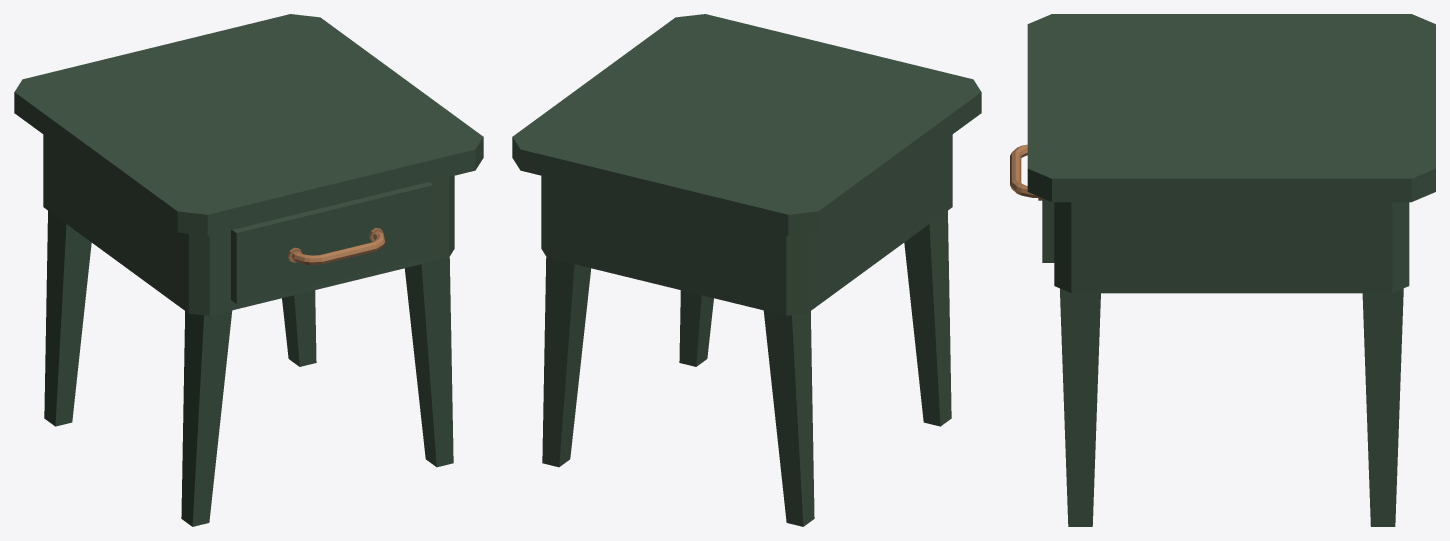
The model's file is Comodino.fbx.
3 renders of one model, left to right at view 1: azimuth 30°, elevation 25°; view 2: azimuth 150°, elevation 25°; view 3: azimuth 270°, elevation 25°, orthographic. The views are drawn at different scales.
Visible parts, largest first — view 1: Cube.045, Cube.044; view 2: Cube.045; view 3: Cube.045, Cube.044.
Part boxes in pixels (x1,y1,x2,y2): Cube.045: (14, 14, 483, 526); Cube.044: (231, 182, 433, 303); Cube.045: (512, 14, 981, 526); Cube.045: (1027, 14, 1435, 526); Cube.044: (1010, 144, 1054, 262).
Bounding box in the file's own units: 90.2 × 91.97 × 98.54.
